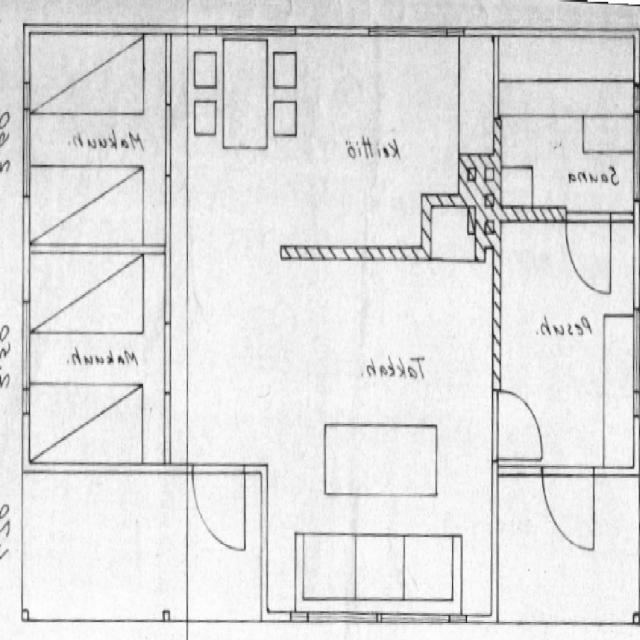door: (192, 463, 244, 553), (542, 468, 594, 555), (493, 389, 547, 459), (566, 212, 610, 290)
